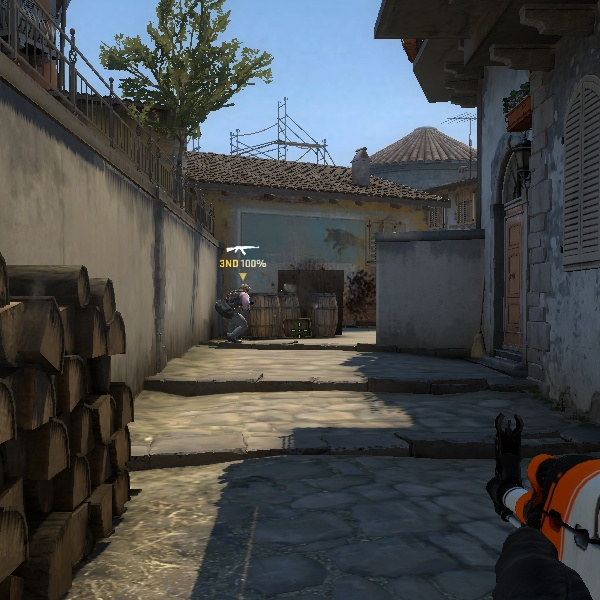t_body: (221, 279, 255, 340)
